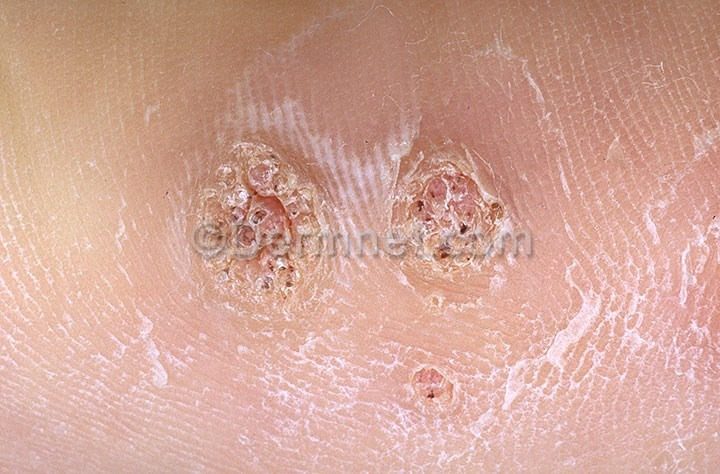Warts: (398, 354, 470, 422)
